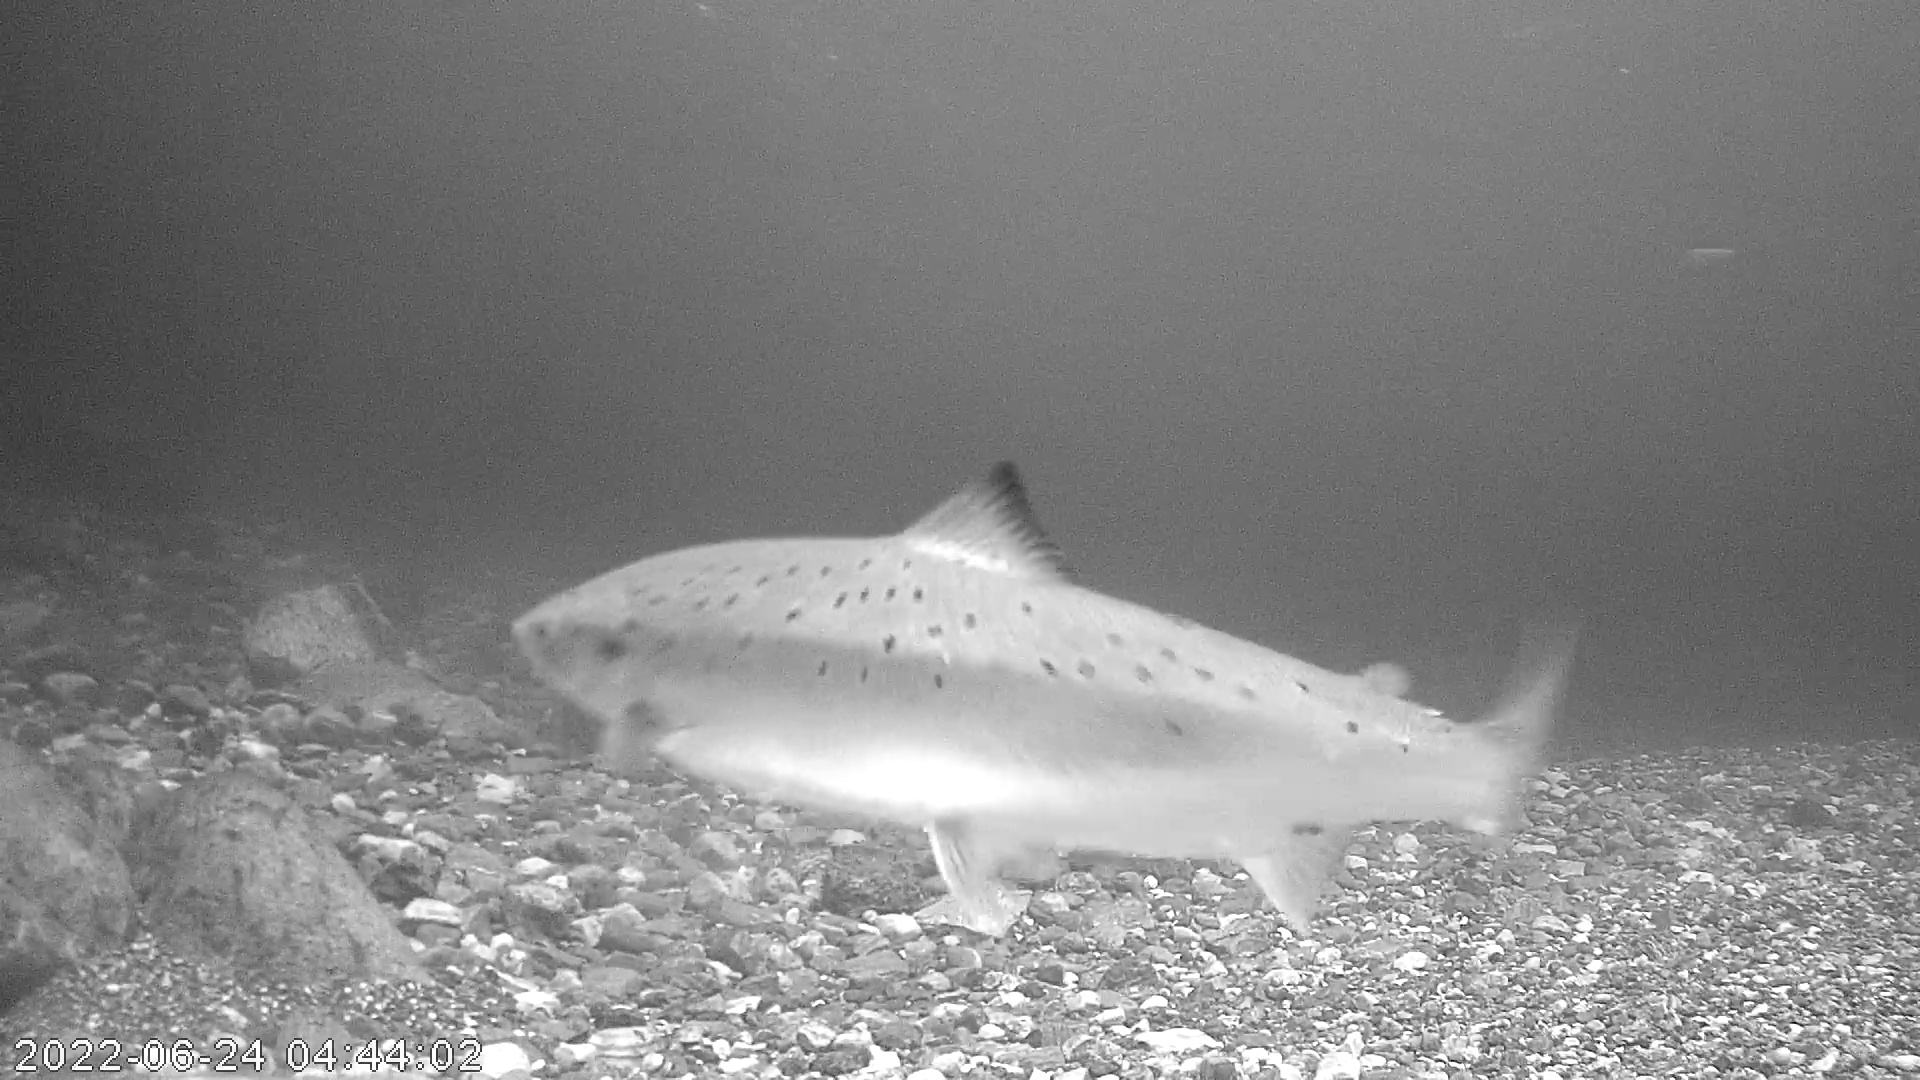salmon: (505, 454, 1573, 945)
